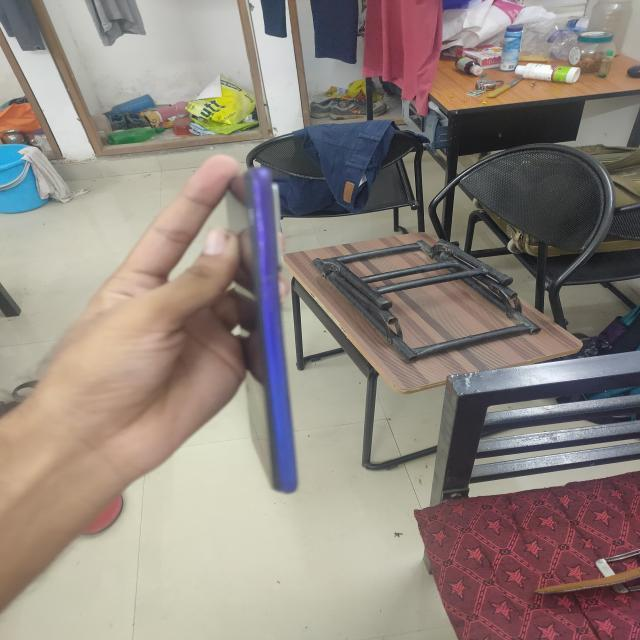Phone: (226, 168, 303, 497)
